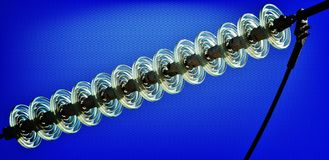isolator: (9, 4, 292, 149)
